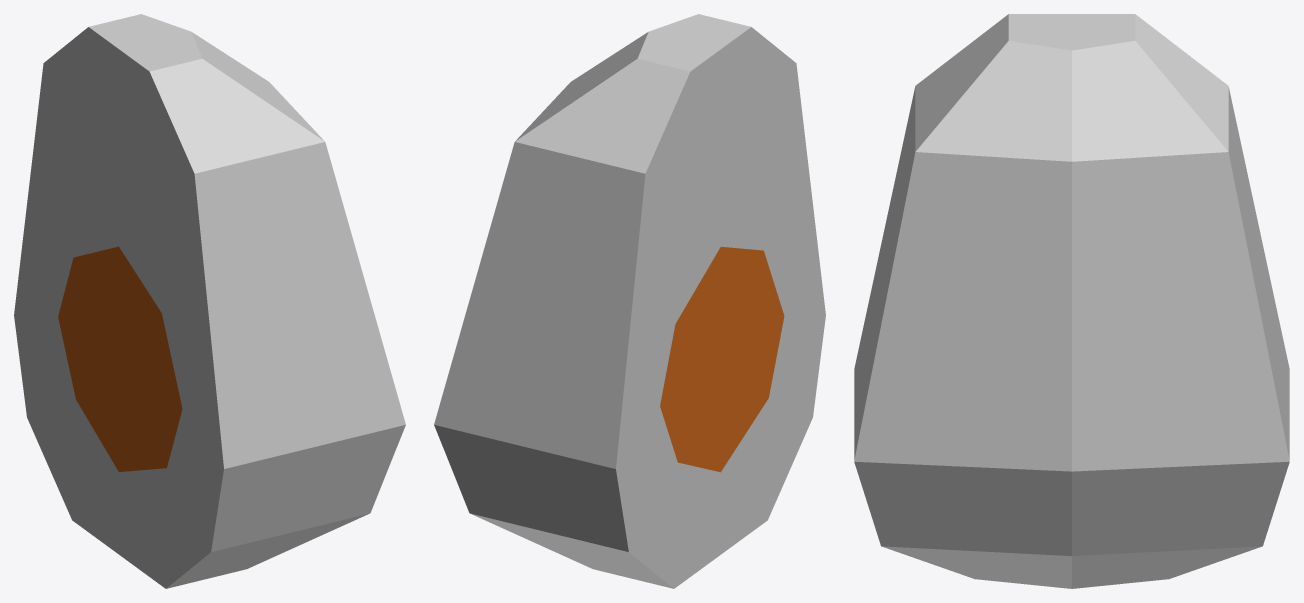
Rendered from boiledEggCutHalf.fbx.
3 views of the same model, side by side, from view 1: azimuth 30°, elevation 25°; view 2: azimuth 150°, elevation 25°; view 3: azimuth 270°, elevation 25° (orthographic). The views are drawn at different scales.
Parts seen in each view (by area): view 1: boiledEggCutHalf; view 2: boiledEggCutHalf; view 3: boiledEggCutHalf.
Boxes of the visible parts, <box> form: boiledEggCutHalf: <box>14,14,405,588</box>; boiledEggCutHalf: <box>434,14,825,588</box>; boiledEggCutHalf: <box>854,14,1289,588</box>.
Size of the model in its own units: 4.12 by 9.88 by 7.44.
1 material, 1 textured.
